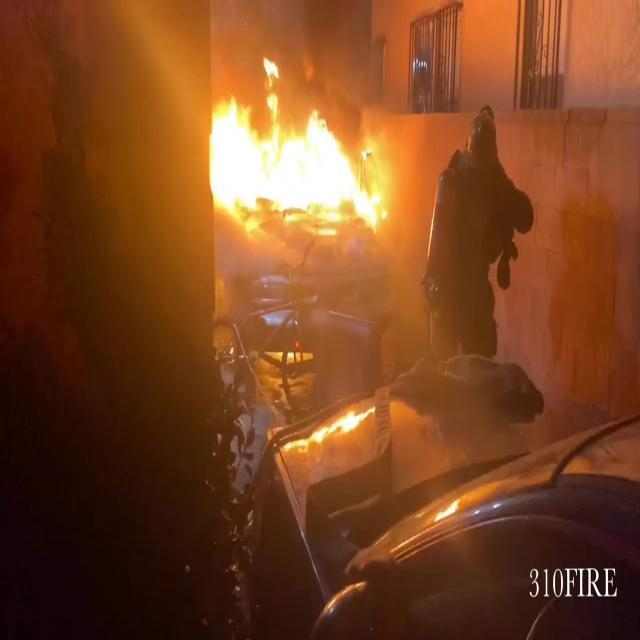Fire: (198, 72, 394, 232)
